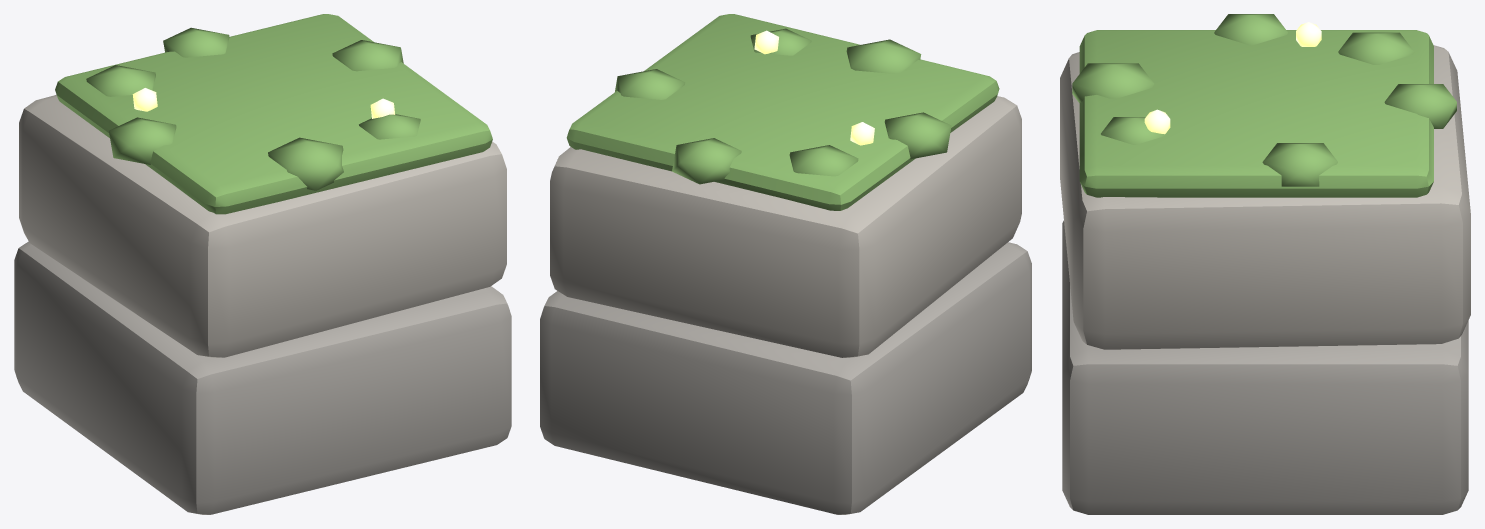
The model's file is pillar_garden.glb.
3 views of the same model, side by side, from view 1: azimuth 30°, elevation 25°; view 2: azimuth 150°, elevation 25°; view 3: azimuth 270°, elevation 25° (orthographic). The views are drawn at different scales.
Parts seen in each view (by area): view 1: pillar_garden; view 2: pillar_garden; view 3: pillar_garden.
Part boxes in pixels (x1,y1,x2,y2): pillar_garden: (14, 14, 511, 514); pillar_garden: (540, 14, 1031, 514); pillar_garden: (1060, 14, 1470, 514).
Bounding box in the file's own units: 0.9505 × 0.935 × 0.9505.
